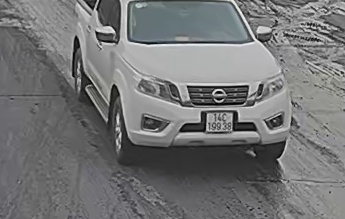vehicle plate: (204, 107, 235, 133)
